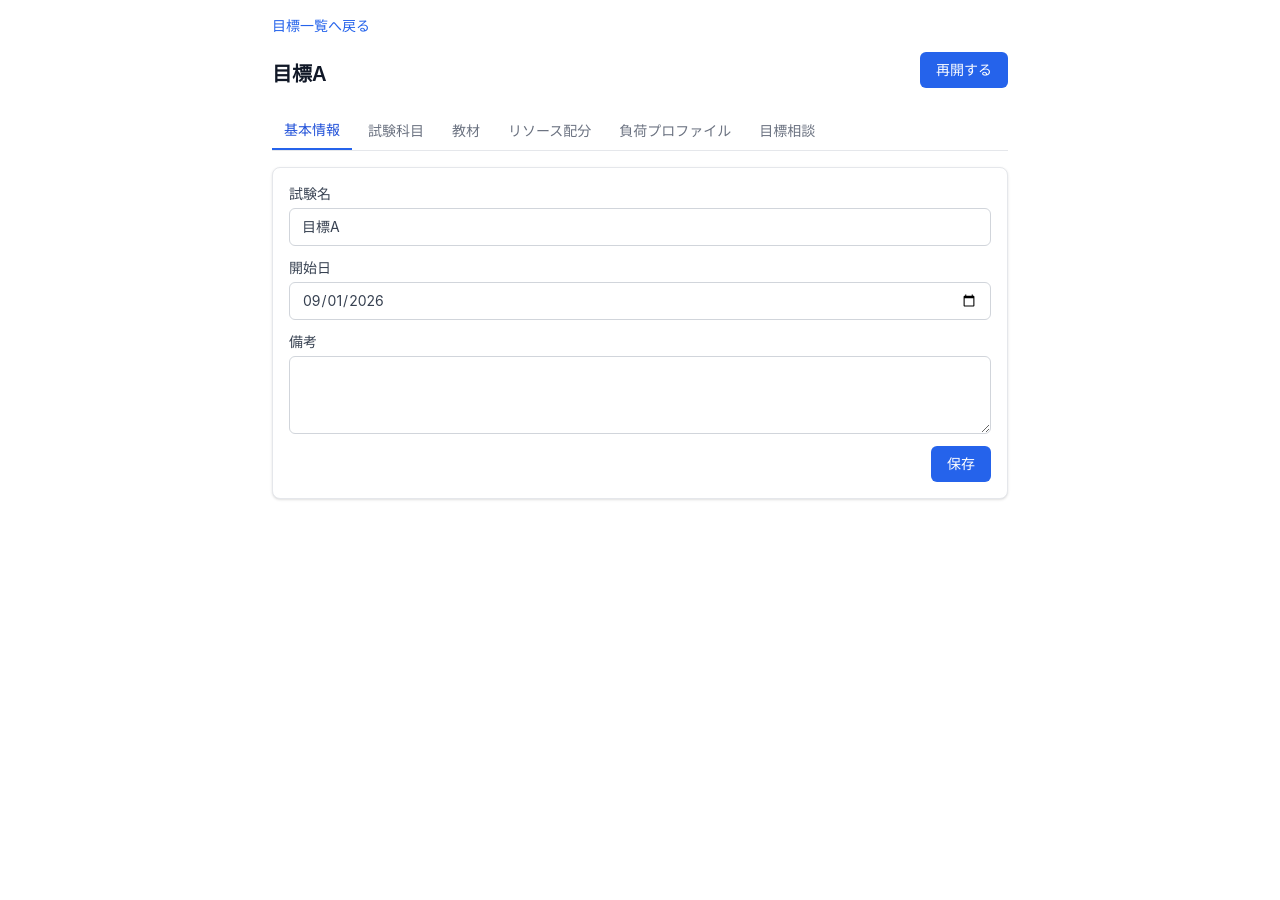
Test: GoalDetailPage の状態遷移 › explains that the allocation is the reason when resuming is refused
Click the button "再開する": (964,70) [920,52,1008,88]
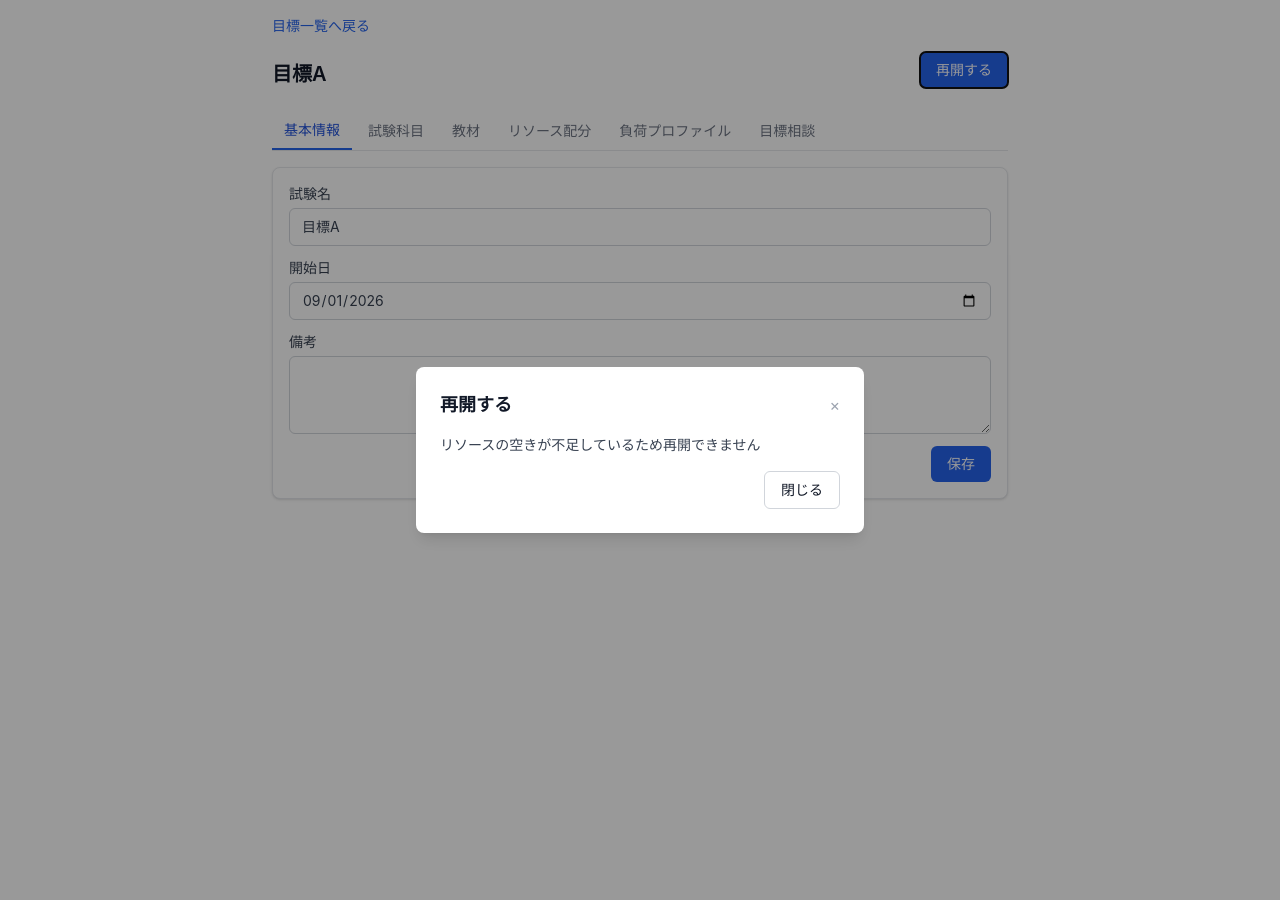
Result: the text "リソースの空きが不足しているため再開できません" is shown at [440,436,760,453]
